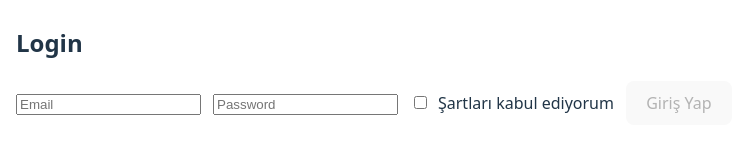
Scenario: Login Form E2E › Email ve password yanlışsa iki hata görünür
Type "yanlis" into the field with test id "email-input".
click(109, 105); type("yanlis")  # box [16,94,201,115]
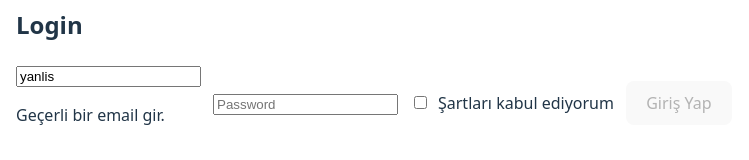
Type "123" into the password field with test id "password-input".
click(306, 105); type("123")  # box [213,94,398,115]
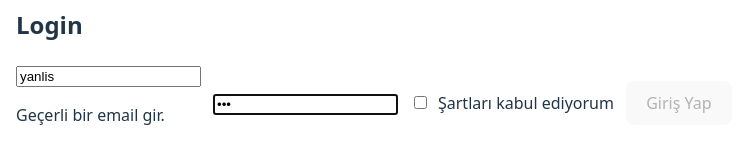
Leave the password field with test id "password-input", box [213,94,398,115]
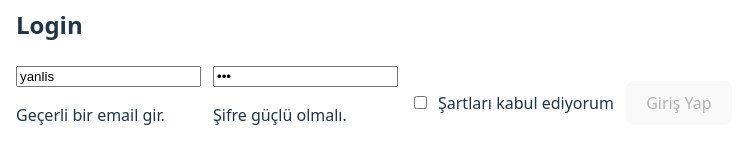
Expected: the button with test id "login-button" is disabled, [626,81,732,124]
Expected: the text "Geçerli bir email gir." is shown, [16,104,165,126]
Expected: the text "Şifre güçlü olmalı." is shown, [213,104,347,126]
